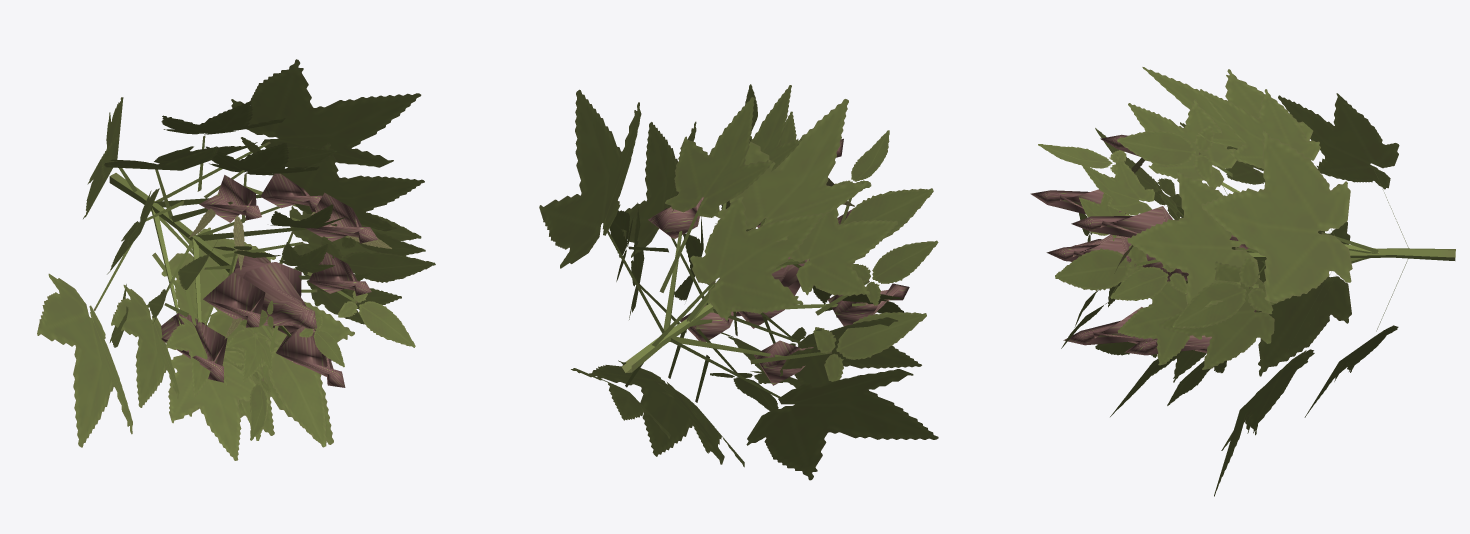
The model's file is p_purple_afghan_flowering_c1_cards.obj.
3 views of the same model, side by side, from view 1: azimuth 30°, elevation 25°; view 2: azimuth 150°, elevation 25°; view 3: azimuth 270°, elevation 25° (orthographic). The views are drawn at different scales.
Bounding box in the file's own units: 1.54 × 1.44 × 1.21.
1 material, 1 textured.
